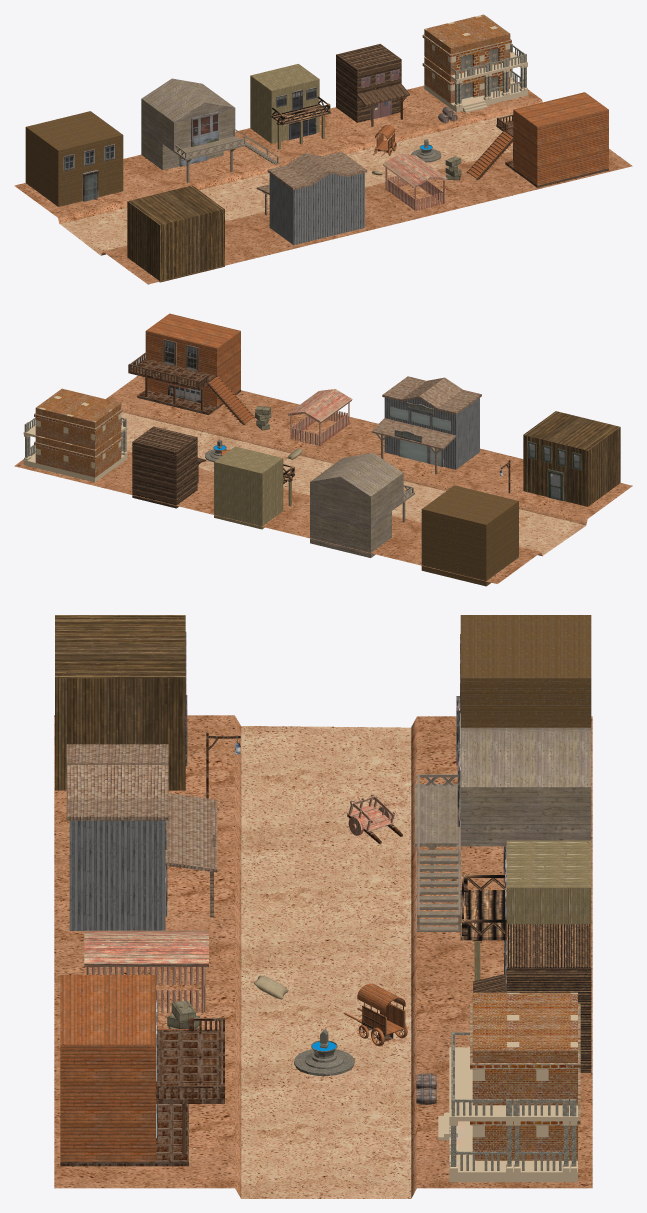
The model's file is country_side_02.fbx.
3 views of the same model, one above another, from view 1: azimuth 30°, elevation 25°; view 2: azimuth 150°, elevation 25°; view 3: azimuth 270°, elevation 25° (orthographic). The views are drawn at different scales.
Visible parts, largest first — view 1: polySurface260, polySurface259, house09_high, house01_high, house06_high, house05_high, polySurface257, house07_high, house04_high, house03_high, house02_high, house08_high (+2 smaller); view 2: polySurface259, house09_high, house05_high, house04_high, house07_high, house06_high, house01_high, polySurface257, polySurface260, house03_high, house02_high, house08_high; view 3: polySurface257, polySurface259, house09_high, house01_high, house07_high, house04_high, polySurface260, house06_high, house05_high, house03_high, house02_high, house08_high (+3 smaller).
Part boxes in pixels (<box>): polySurface260: <box>14,80,542,224</box>; polySurface259: <box>101,149,632,284</box>; house09_high: <box>466,92,608,187</box>; house01_high: <box>422,14,527,112</box>; house06_high: <box>127,185,224,282</box>; house05_high: <box>25,111,123,206</box>; polySurface257: <box>60,113,512,255</box>; house07_high: <box>256,151,367,245</box>; house04_high: <box>141,78,279,182</box>; house03_high: <box>250,64,331,149</box>; house02_high: <box>336,43,409,126</box>; house08_high: <box>383,153,447,211</box>; polySurface259: <box>106,375,632,525</box>; house09_high: <box>128,313,254,425</box>; house05_high: <box>421,485,518,586</box>; house04_high: <box>309,453,414,557</box>; house07_high: <box>371,376,481,474</box>; house06_high: <box>523,411,620,506</box>; house01_high: <box>23,388,127,482</box>; polySurface257: <box>121,412,585,555</box>; polySurface260: <box>14,451,542,583</box>; house03_high: <box>214,446,294,529</box>; house02_high: <box>132,426,206,508</box>; house08_high: <box>288,389,352,446</box>; polySurface257: <box>241,726,411,1198</box>; polySurface259: <box>54,715,241,1198</box>; house09_high: <box>60,975,224,1166</box>; house01_high: <box>438,992,580,1182</box>; house07_high: <box>66,744,217,930</box>; house04_high: <box>415,727,591,931</box>; polySurface260: <box>411,716,592,1198</box>; house06_high: <box>55,615,187,790</box>; house05_high: <box>456,615,591,765</box>; house03_high: <box>460,840,591,980</box>; house02_high: <box>473,924,591,1072</box>; house08_high: <box>84,930,208,1012</box>.
Bounding box in the file's own units: 63.71 × 9.37 × 30.65.
